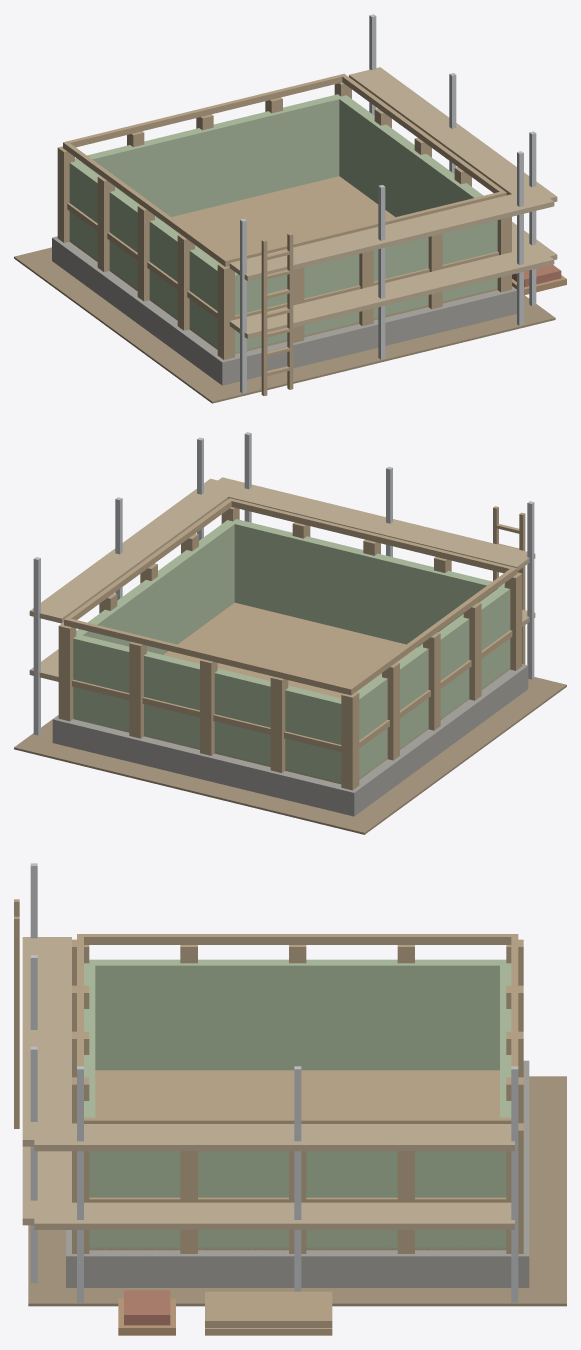
File: bloom_garden_site_7.glb
3 renders of one model, top to bottom at view 1: azimuth 30°, elevation 25°; view 2: azimuth 150°, elevation 25°; view 3: azimuth 270°, elevation 25°, orthographic. The views are drawn at different scales.
Parts seen in each view (by area): view 1: body; view 2: body; view 3: body.
Part boxes in pixels (box(x1,y1,x2,y2)): body: box(14, 14, 566, 403); body: box(14, 432, 566, 834); body: box(14, 863, 566, 1335).
Size of the model in its own units: 2.1 by 0.9 by 1.91.
